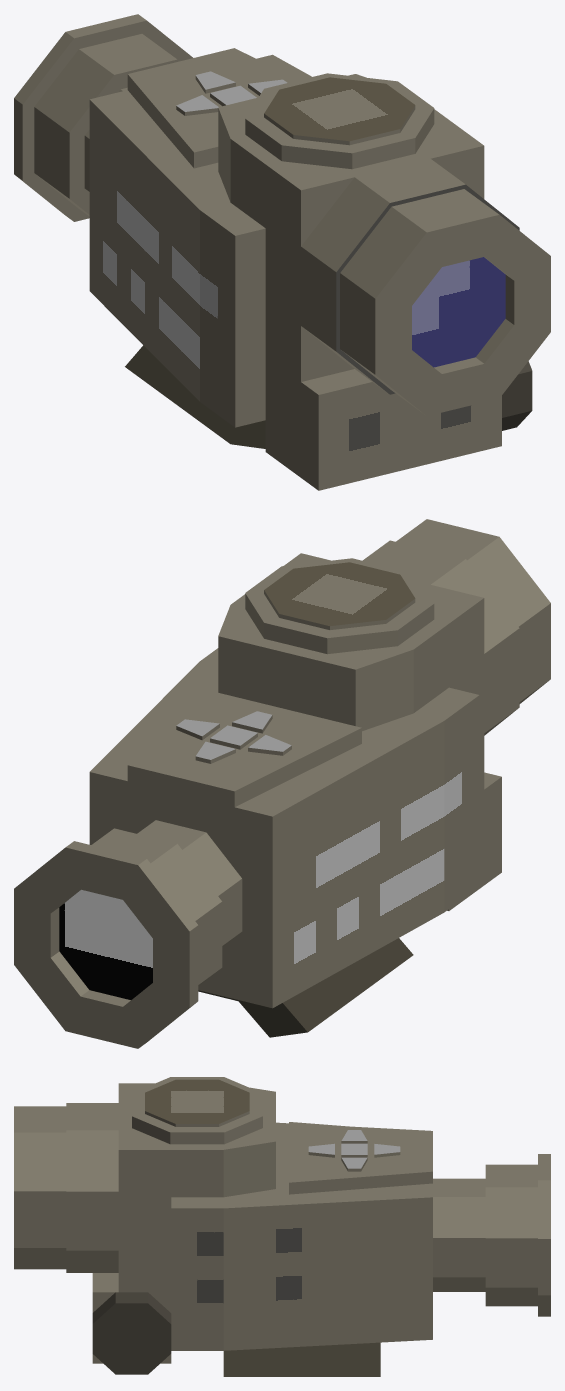
The model's file is CNVDTSCOPE.obj.
3 renders of one model, top to bottom at view 1: azimuth 30°, elevation 25°; view 2: azimuth 150°, elevation 25°; view 3: azimuth 270°, elevation 25°, orthographic. The views are drawn at different scales.
Visible parts, largest first — view 1: mesh, cylinder, tube; view 2: mesh, cylinder, tube; view 3: mesh, cylinder, tube.
Boxes of the visible parts, x1,y1,x2,y2 form: mesh: [89, 48, 501, 490]; cylinder: [34, 34, 532, 430]; tube: [14, 14, 550, 448]; mesh: [89, 553, 501, 1008]; cylinder: [59, 540, 519, 999]; tube: [14, 519, 550, 1048]; mesh: [92, 1083, 432, 1363]; cylinder: [66, 1077, 537, 1374]; tube: [14, 1106, 550, 1376].
Bounding box in the file's own units: 0.5 × 0.6652 × 1.28.
Materials: 1 (1 with a texture image).
